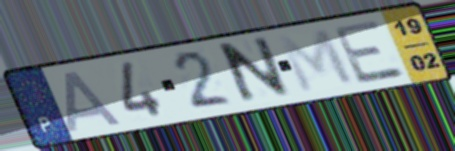2: (173, 48, 237, 116)
4: (119, 58, 166, 121)
A: (62, 68, 127, 135)
E: (329, 17, 411, 87)
M: (274, 26, 360, 96)
N: (219, 33, 295, 109)
